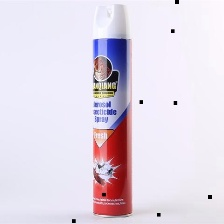aerosol_cans: (88, 1, 135, 220)
